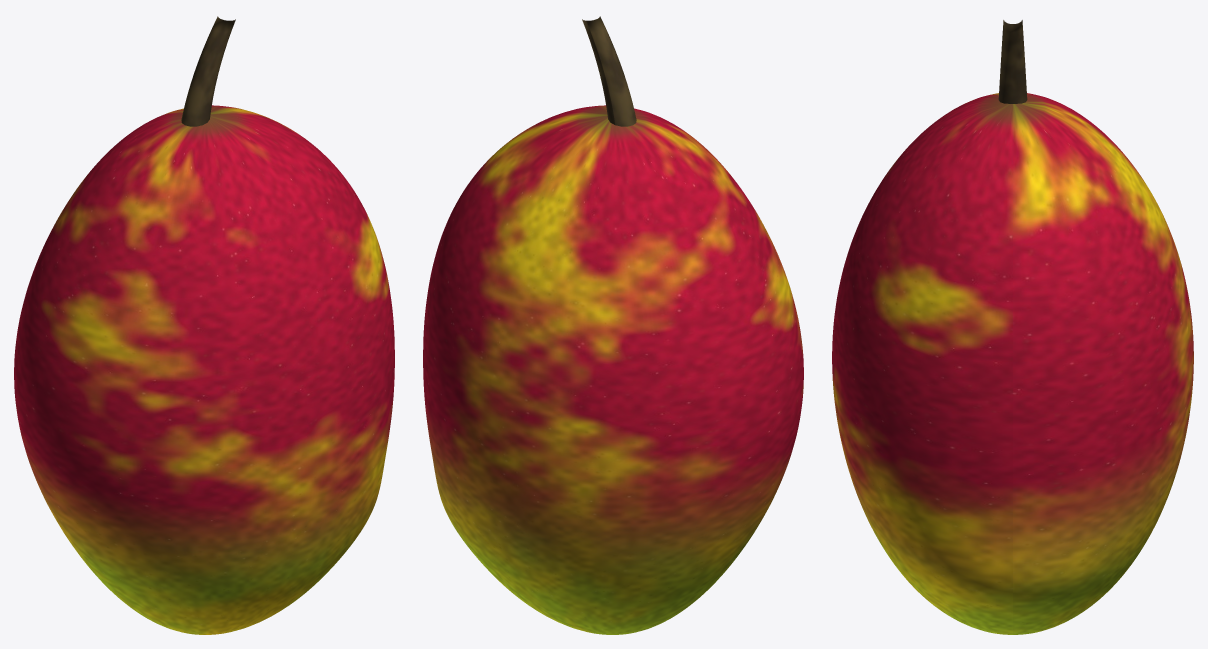
File: mangue-cogshall.glb
The picture shows the model from 3 angles, left to right: view 1: azimuth 30°, elevation 25°; view 2: azimuth 150°, elevation 25°; view 3: azimuth 270°, elevation 25°; orthographic projection.
Visible parts, largest first — view 1: entier_peau, moitie_A_peau, moitie_B_peau, entier_extra0; view 2: entier_peau, moitie_B_peau, moitie_A_peau, entier_extra0; view 3: entier_peau, moitie_A_peau, moitie_B_peau, entier_extra0.
Part boxes in pixels (<box>): entier_peau: <box>14,107,394,629</box>; moitie_A_peau: <box>37,115,394,634</box>; moitie_B_peau: <box>14,105,287,596</box>; entier_extra0: <box>181,16,235,126</box>; entier_peau: <box>423,107,803,629</box>; moitie_B_peau: <box>423,114,780,634</box>; moitie_A_peau: <box>528,105,803,594</box>; entier_extra0: <box>582,16,636,126</box>; entier_peau: <box>832,93,1193,634</box>; moitie_A_peau: <box>832,94,1011,633</box>; moitie_B_peau: <box>1014,94,1193,633</box>; entier_extra0: <box>998,20,1027,103</box>.
Size of the model in its own units: 0.0756 by 0.13 by 0.0692.
3 materials, 3 textured.
